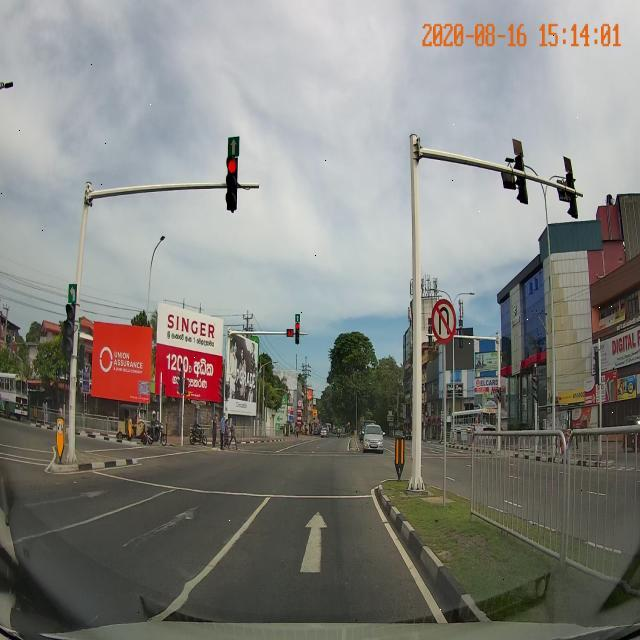forward: (177, 498, 438, 597)
